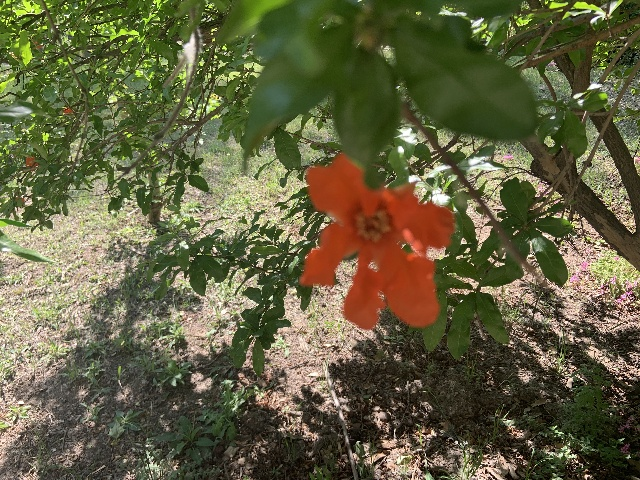flower: (299, 153, 455, 330), (25, 155, 40, 170), (63, 107, 72, 114)
